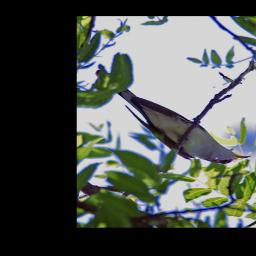Cuckoo: (95, 69, 251, 165)
